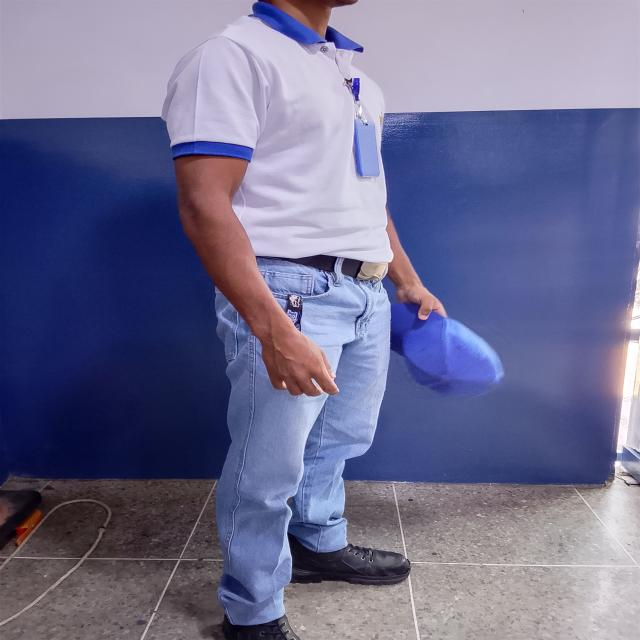carnet: (354, 121, 380, 177)
uniforme_superior: (161, 1, 395, 263)
